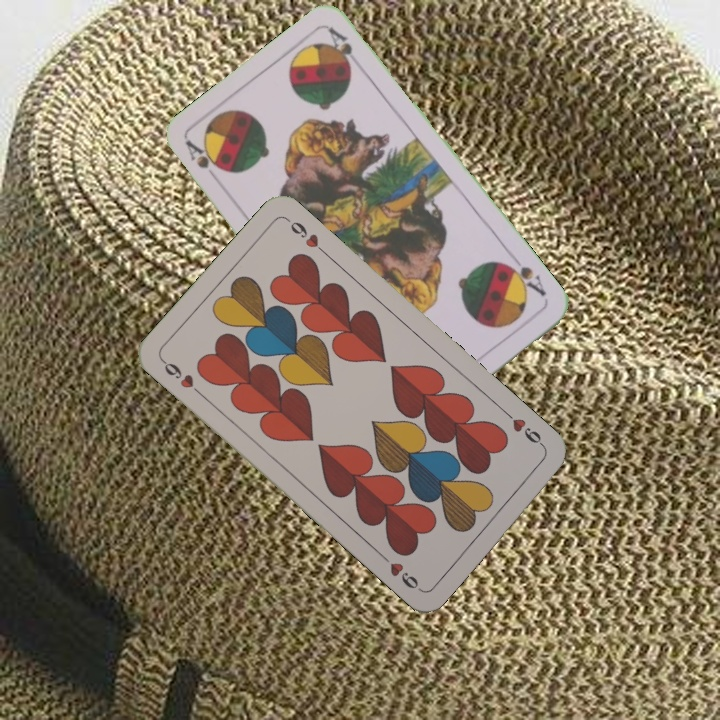H9: (158, 355, 206, 399), (500, 407, 548, 451)
SA: (500, 251, 549, 299), (181, 136, 226, 188)
